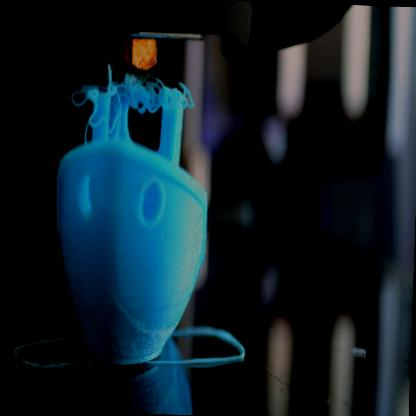fail: (77, 76, 196, 126)
